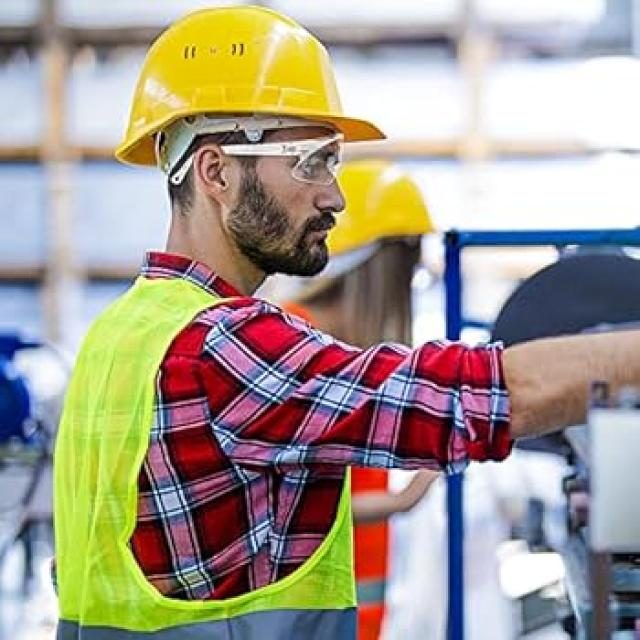goggles_on: (168, 128, 348, 193)
